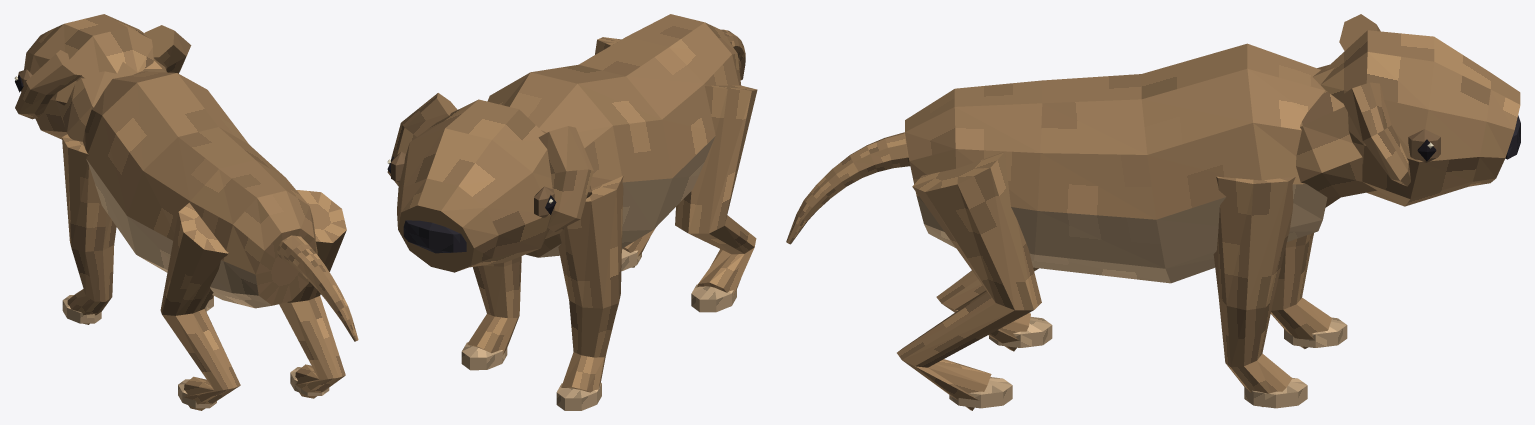
Rendered from mon_dog_pup.glb.
The picture shows the model from 3 angles, left to right: view 1: azimuth 30°, elevation 25°; view 2: azimuth 150°, elevation 25°; view 3: azimuth 270°, elevation 25°; orthographic projection. The views are drawn at different scales.
Parts seen in each view (by area): view 1: closed_body; view 2: closed_body; view 3: closed_body.
Part boxes in pixels (box(x1,y1,x2,y2)): closed_body: box(14, 14, 358, 410); closed_body: box(387, 14, 757, 410); closed_body: box(786, 14, 1520, 410).
Bounding box in the file's own units: 0.1157 × 0.1794 × 0.3523.
1 material, 1 textured.
